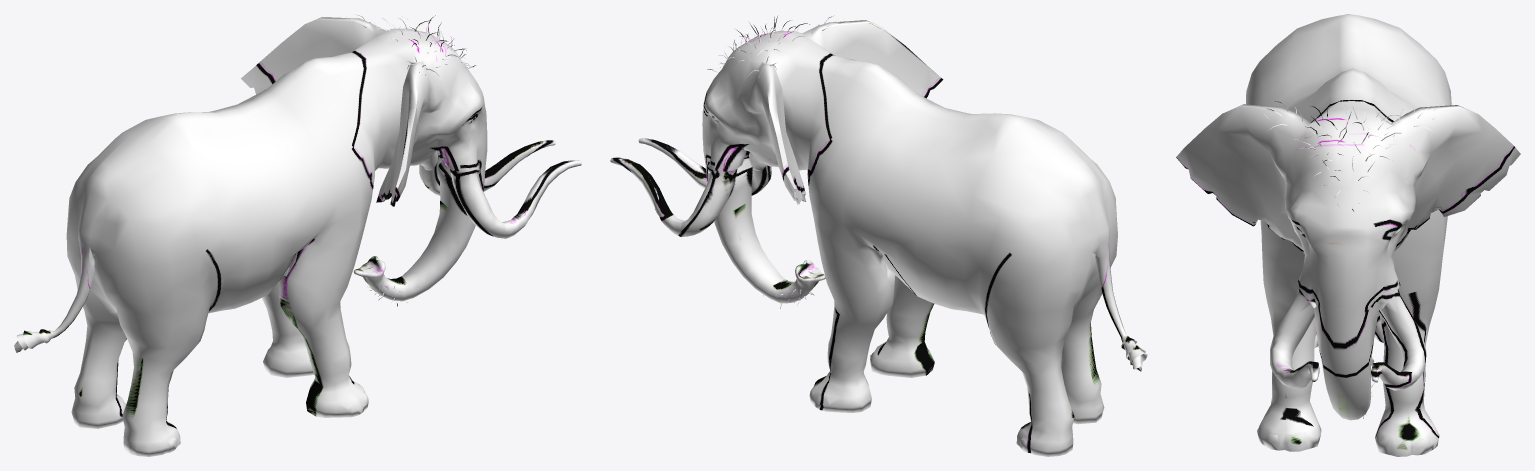
Rendered from Elephant_ar.fbx.
The picture shows the model from 3 angles, left to right: view 1: azimuth 30°, elevation 25°; view 2: azimuth 150°, elevation 25°; view 3: azimuth 270°, elevation 25°; orthographic projection. The views are drawn at different scales.
Parts seen in each view (by area): view 1: Elephant; view 2: Elephant; view 3: Elephant.
Part boxes in pixels (left/top/right/bottom): Elephant: left=14, top=14, right=581, bottom=456; Elephant: left=610, top=16, right=1147, bottom=456; Elephant: left=1176, top=14, right=1520, bottom=456.
Bounding box in the file's own units: 148 × 88.31 × 72.19.
1 material, 1 textured.
